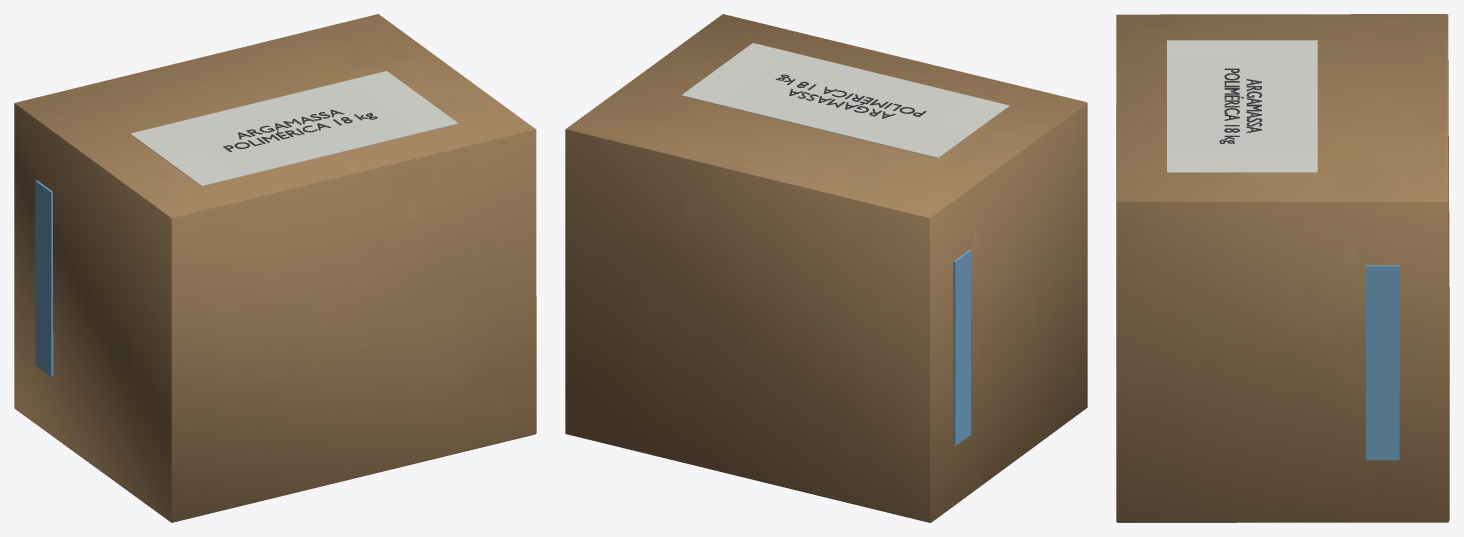
Rendered from IMP-POL-001_lod1.glb.
3 renders of one model, left to right at view 1: azimuth 30°, elevation 25°; view 2: azimuth 150°, elevation 25°; view 3: azimuth 270°, elevation 25°, orthographic. The views are drawn at different scales.
Visible parts, largest first — view 1: IMP-POL-001_caixa, IMP-POL-001_etiqueta, IMP-POL-001_faixa, IMP-POL-001_texto; view 2: IMP-POL-001_caixa, IMP-POL-001_etiqueta, IMP-POL-001_faixa, IMP-POL-001_texto; view 3: IMP-POL-001_caixa, IMP-POL-001_etiqueta, IMP-POL-001_faixa, IMP-POL-001_texto.
Part boxes in pixels (x1,y1,x2,y2): IMP-POL-001_caixa: [14, 14, 536, 522]; IMP-POL-001_etiqueta: [130, 71, 458, 186]; IMP-POL-001_faixa: [35, 180, 53, 376]; IMP-POL-001_texto: [223, 109, 377, 152]; IMP-POL-001_caixa: [565, 14, 1087, 522]; IMP-POL-001_etiqueta: [681, 43, 1009, 158]; IMP-POL-001_faixa: [953, 250, 970, 445]; IMP-POL-001_texto: [775, 74, 926, 118]; IMP-POL-001_caixa: [1116, 14, 1449, 522]; IMP-POL-001_etiqueta: [1167, 40, 1317, 172]; IMP-POL-001_faixa: [1366, 265, 1399, 460]; IMP-POL-001_texto: [1219, 68, 1262, 143].
Bounding box in the file's own units: 0.402 × 0.3211 × 0.2991.
4 materials, 2 textured.
